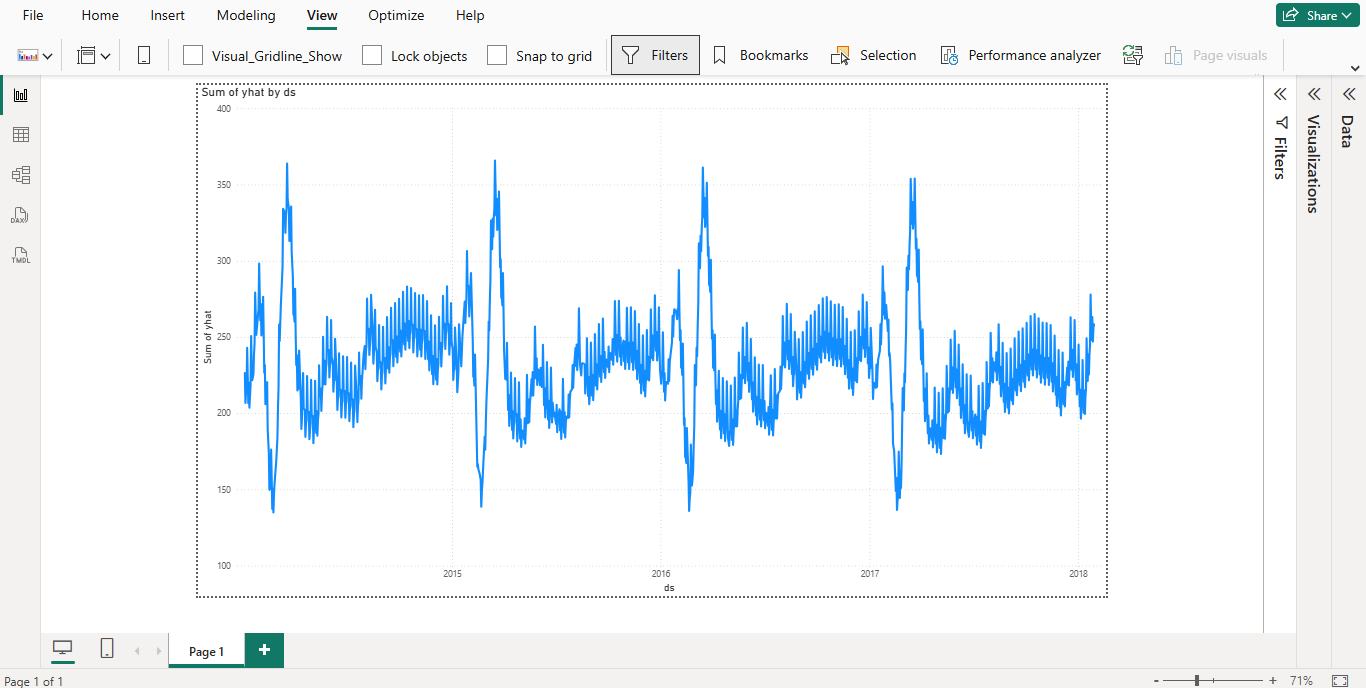

Layout of this report page (visuals, bound fields, positions):
{"tool":"powerbi","page":{"name":"Page 1","canvas":[1280,720],"ordinal":0},"visuals":[{"type":"lineChart","fields":{"Y":["CountNonNull(forecast.yhat)"],"Category":["forecast.ds"]},"box":[0,0,1280,720],"z":0}]}

Visuals, with their boxes on the page's 1280x720 design canvas (x1, y1, x2, y2). These are canvas units, not pixel positions in the 1366x688 screenshot, which may show the page scaled, cropped or inside an application window:
lineChart - CountNonNull(forecast.yhat) x forecast.ds: [0,0,1280,720]
